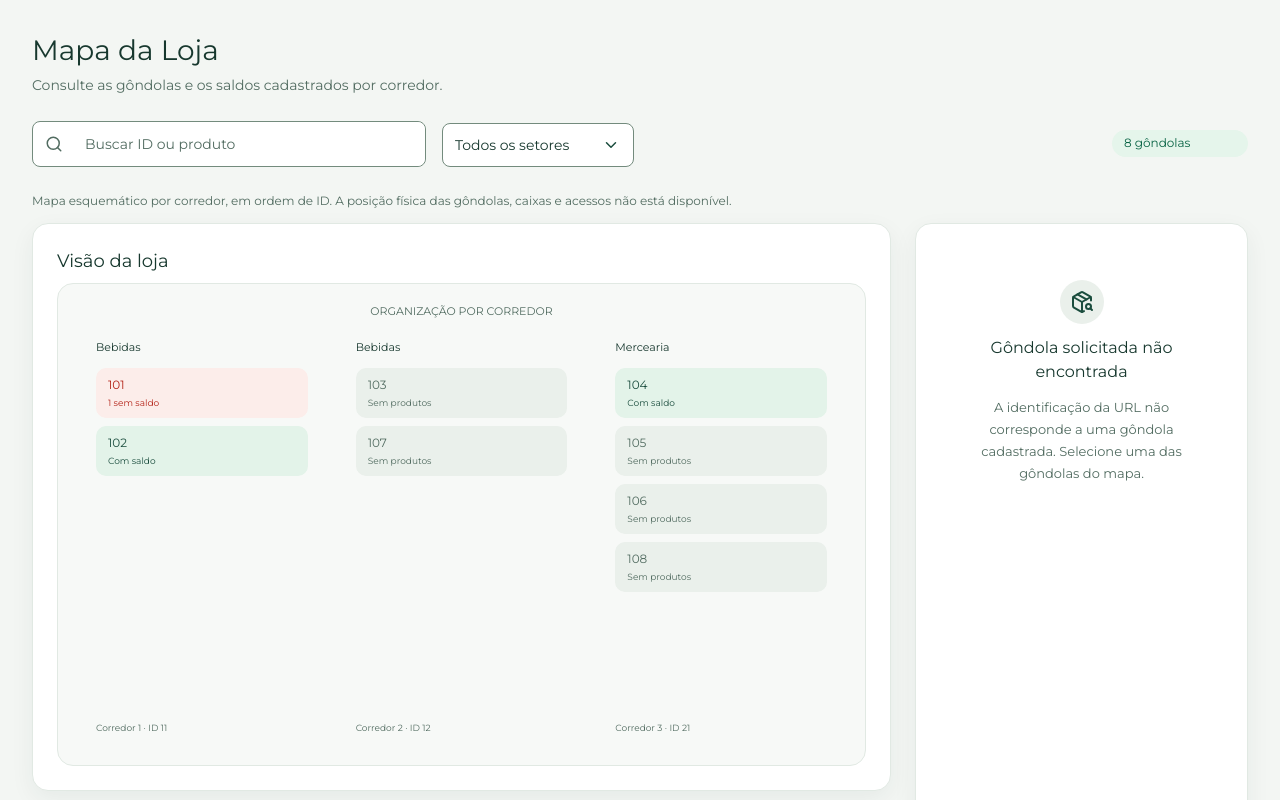
does not silently substitute a different identity for a missing URL ID
Expected: the element "Visão da loja" is shown, [32,223,891,791]
Expected: the text "Gôndola solicitada não encontrada" is shown, [991,338,1172,381]
Step 1. Click the button named "Gôndola 103 Sem produtos" → (462, 393), box [356,368,567,418]
(page scrolled)
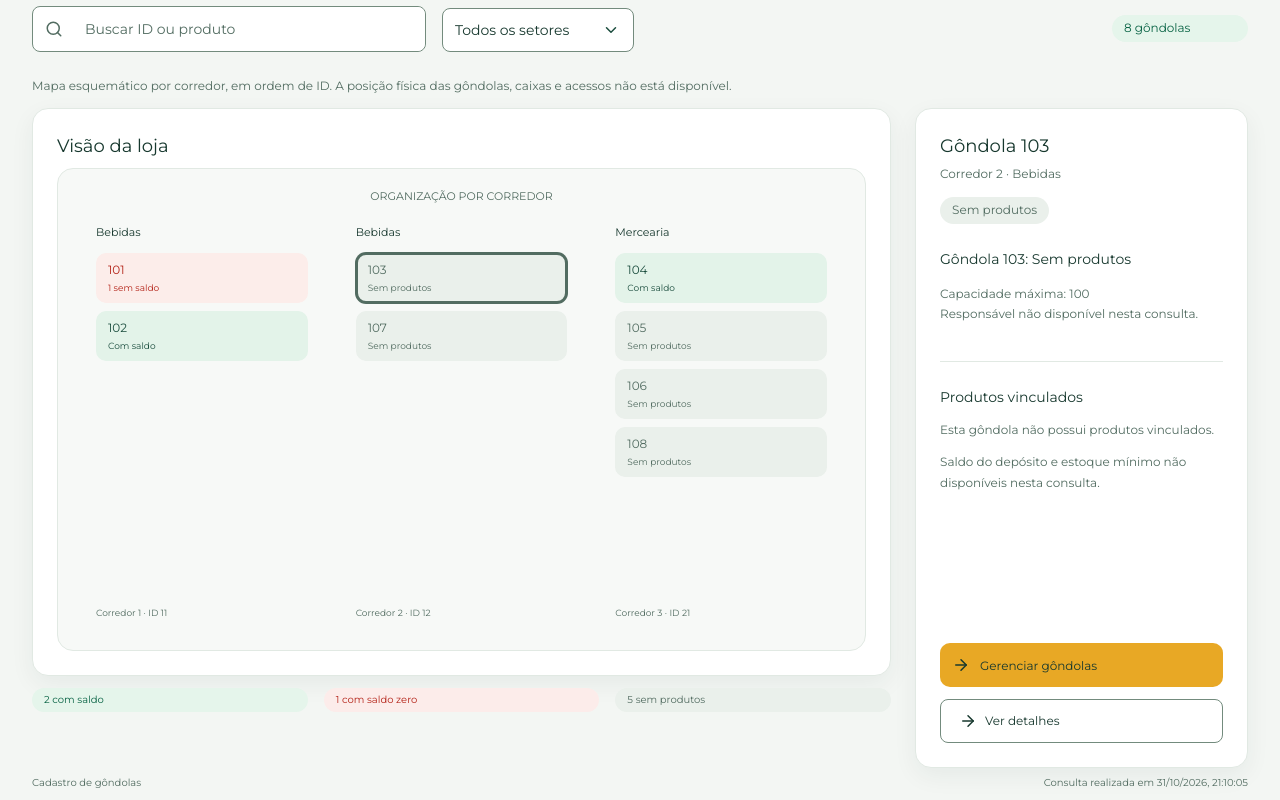
Result: the element "Gôndola 103" is shown at [915,108,1248,768]
